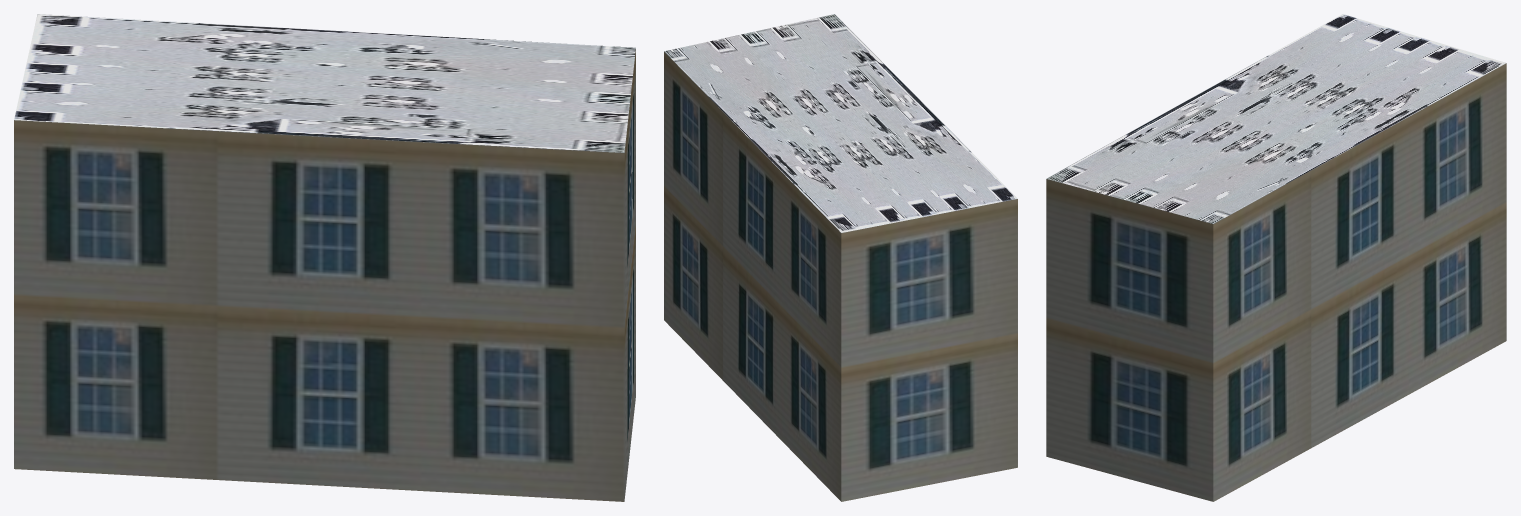
The model's file is ResTex__4991.fbx.
The picture shows the model from 3 angles, left to right: view 1: azimuth 30°, elevation 25°; view 2: azimuth 150°, elevation 25°; view 3: azimuth 270°, elevation 25°; orthographic projection. The views are drawn at different scales.
Visible parts, largest first — view 1: CityEngineMaterial_7_m, CityEngineMaterial_8_m; view 2: CityEngineMaterial_7_m, CityEngineMaterial_8_m; view 3: CityEngineMaterial_7_m, CityEngineMaterial_8_m.
Part boxes in pixels (x1,y1,x2,y2): CityEngineMaterial_7_m: (14,49,635,501); CityEngineMaterial_8_m: (14,14,635,152); CityEngineMaterial_7_m: (664,51,1017,501); CityEngineMaterial_8_m: (664,14,1017,232); CityEngineMaterial_7_m: (1046,63,1506,501); CityEngineMaterial_8_m: (1046,14,1506,223).
Bounding box in the file's own units: 9.73 × 6 × 9.01.
Materials: 2 (2 with a texture image).
